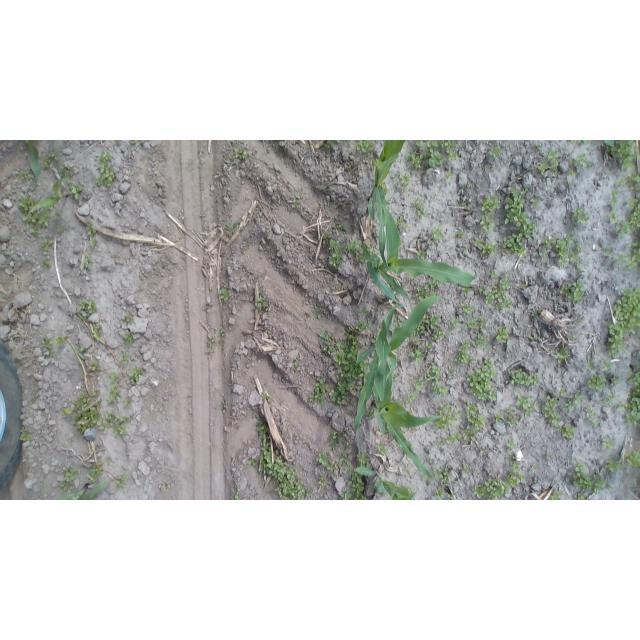Maize: (366, 203, 478, 312), (353, 296, 439, 428), (377, 314, 440, 485), (370, 140, 409, 258), (30, 176, 81, 221), (55, 336, 94, 394), (355, 465, 418, 499), (77, 311, 107, 355), (25, 140, 43, 190), (65, 481, 111, 499)
Weeds: (255, 419, 309, 499), (317, 326, 366, 380), (503, 186, 536, 254), (608, 288, 640, 356), (540, 233, 583, 268), (467, 357, 498, 402), (473, 473, 524, 500), (74, 393, 102, 433), (604, 141, 638, 170), (571, 462, 605, 491), (626, 359, 640, 424), (558, 386, 587, 414), (483, 284, 512, 309), (21, 214, 50, 239), (617, 241, 640, 270), (407, 339, 433, 364), (559, 278, 586, 302), (97, 151, 115, 186), (435, 402, 459, 428), (105, 413, 132, 436), (585, 349, 613, 371), (509, 368, 541, 387), (404, 376, 424, 404), (345, 473, 366, 499), (543, 396, 561, 425), (466, 402, 486, 428), (331, 381, 352, 404), (326, 428, 350, 447), (411, 286, 438, 302), (227, 146, 252, 163), (584, 404, 603, 426), (553, 343, 572, 365), (311, 379, 327, 404), (480, 194, 501, 213), (413, 141, 457, 150), (224, 224, 247, 241), (569, 153, 592, 170), (517, 394, 536, 414), (587, 374, 607, 393), (62, 467, 80, 488), (457, 338, 472, 363), (426, 362, 444, 382), (464, 317, 489, 331), (356, 450, 373, 470), (571, 206, 589, 224), (256, 294, 273, 313), (431, 487, 455, 500), (86, 465, 102, 484), (479, 214, 495, 233), (548, 147, 560, 172), (317, 451, 334, 468), (428, 149, 444, 167), (287, 191, 302, 210), (485, 146, 504, 161), (626, 451, 640, 471), (413, 196, 426, 217), (213, 398, 229, 415), (435, 468, 453, 483), (431, 382, 449, 397), (499, 270, 513, 289), (607, 457, 621, 476), (474, 333, 491, 348), (441, 168, 456, 185), (129, 366, 143, 384), (330, 251, 343, 270), (19, 196, 34, 212), (600, 390, 616, 405), (71, 184, 85, 201), (616, 221, 629, 239), (108, 386, 121, 404), (91, 322, 102, 343), (561, 424, 576, 439), (495, 327, 509, 343), (506, 412, 522, 426), (412, 153, 425, 170), (356, 140, 373, 153), (80, 300, 97, 313), (330, 221, 350, 232), (463, 427, 477, 442), (157, 478, 172, 492), (346, 240, 362, 253), (506, 436, 519, 452), (630, 209, 639, 232), (340, 454, 352, 471), (261, 391, 274, 406), (606, 209, 619, 224), (357, 302, 370, 317), (446, 432, 462, 444), (624, 196, 640, 208), (41, 337, 53, 353), (431, 328, 445, 341), (483, 243, 497, 256), (603, 436, 616, 450), (610, 375, 623, 389), (20, 428, 32, 443), (83, 223, 95, 238), (529, 195, 541, 210), (82, 254, 94, 269), (205, 335, 214, 354), (293, 358, 303, 375), (449, 317, 462, 330), (219, 288, 231, 302), (615, 175, 627, 189), (355, 322, 370, 333), (60, 164, 72, 177), (427, 316, 439, 329), (116, 474, 128, 487), (462, 303, 475, 315), (414, 323, 426, 336), (394, 316, 406, 329), (433, 225, 444, 239), (537, 161, 548, 175), (121, 396, 133, 408), (458, 462, 470, 474), (530, 141, 542, 153), (487, 267, 498, 280), (445, 150, 458, 161), (614, 401, 627, 412), (118, 353, 131, 364), (550, 489, 564, 499), (426, 277, 440, 287), (201, 303, 215, 313), (41, 241, 53, 252), (402, 174, 413, 186), (626, 173, 638, 184), (21, 170, 32, 182), (316, 477, 328, 488), (527, 333, 539, 344), (397, 216, 407, 229), (110, 373, 123, 383), (57, 225, 70, 235), (431, 437, 441, 450), (572, 492, 588, 500), (324, 140, 340, 148), (568, 141, 593, 146), (428, 457, 439, 468), (367, 243, 378, 254), (509, 461, 521, 471), (124, 332, 134, 344), (602, 245, 612, 257), (320, 233, 328, 248), (611, 190, 619, 205), (220, 328, 227, 345), (90, 236, 99, 249), (125, 313, 136, 323), (248, 457, 259, 467), (454, 229, 465, 239), (369, 333, 379, 344), (230, 491, 242, 500), (528, 462, 536, 475), (312, 308, 322, 318), (473, 237, 483, 247), (88, 361, 98, 371), (494, 413, 504, 423), (462, 287, 473, 296), (330, 240, 339, 251), (62, 406, 71, 417), (42, 157, 50, 169), (128, 140, 144, 146), (567, 168, 579, 176), (105, 455, 112, 468), (378, 445, 387, 455), (52, 210, 61, 220), (49, 151, 59, 160), (43, 258, 52, 268), (456, 202, 467, 210), (383, 181, 389, 195), (466, 182, 475, 191), (475, 446, 485, 454), (476, 286, 484, 295), (391, 171, 400, 179), (565, 179, 575, 186), (545, 452, 552, 461), (418, 252, 426, 259), (520, 282, 528, 289), (411, 235, 420, 241), (434, 192, 441, 199), (402, 188, 408, 196), (111, 141, 118, 146)
